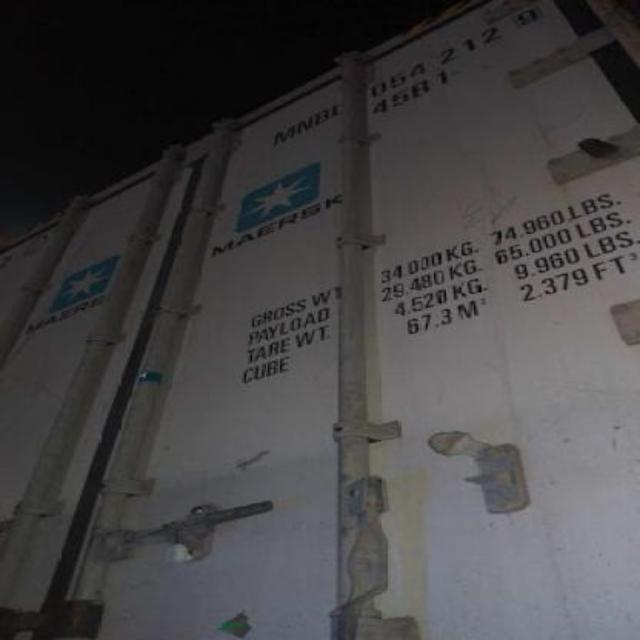0: (370, 79, 388, 97)
1: (462, 34, 480, 56)
2: (482, 21, 502, 47), (439, 46, 457, 66)
4: (408, 59, 428, 80)
5: (391, 70, 409, 90)
9: (516, 3, 540, 30)
B: (316, 106, 332, 130)
M: (272, 121, 296, 145)
N: (296, 114, 316, 138)
U: (331, 95, 352, 124)
